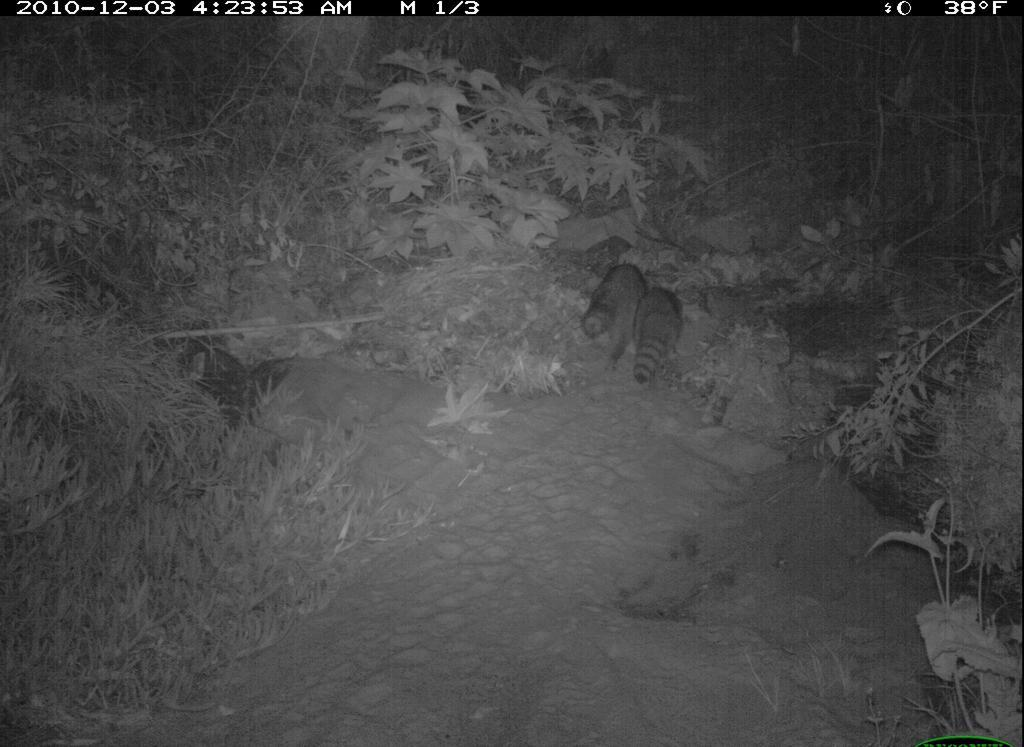raccoon: (573, 260, 652, 372), (620, 278, 688, 390)
